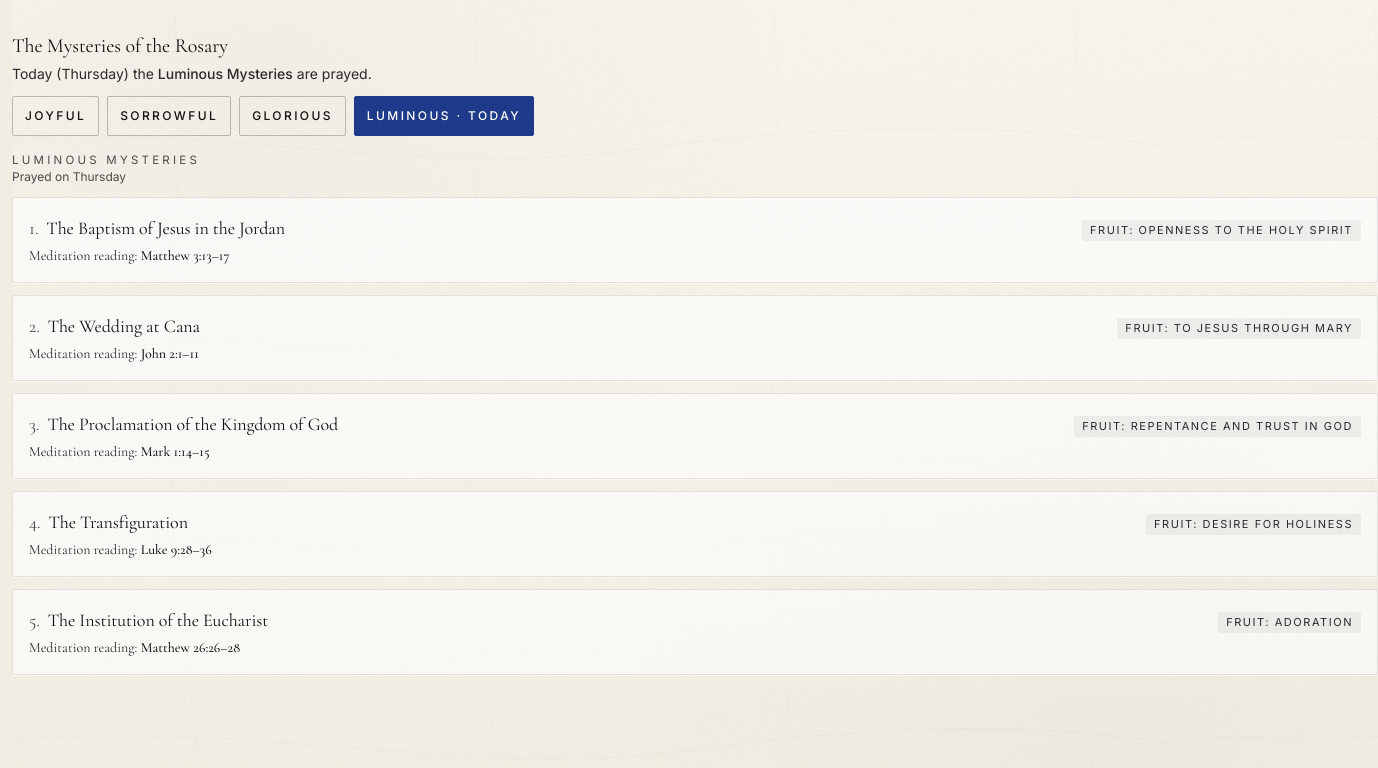
Test case: RosaryMysteries › switches the displayed mysteries when another set is chosen
The width and height of the screenshot is (1378, 768).
Expected: the heading "1.The Baptism of Jesus in the Jordan" is shown, [29, 214, 285, 242]
Click the button "Joyful" at (56, 116), box [12, 96, 99, 136]
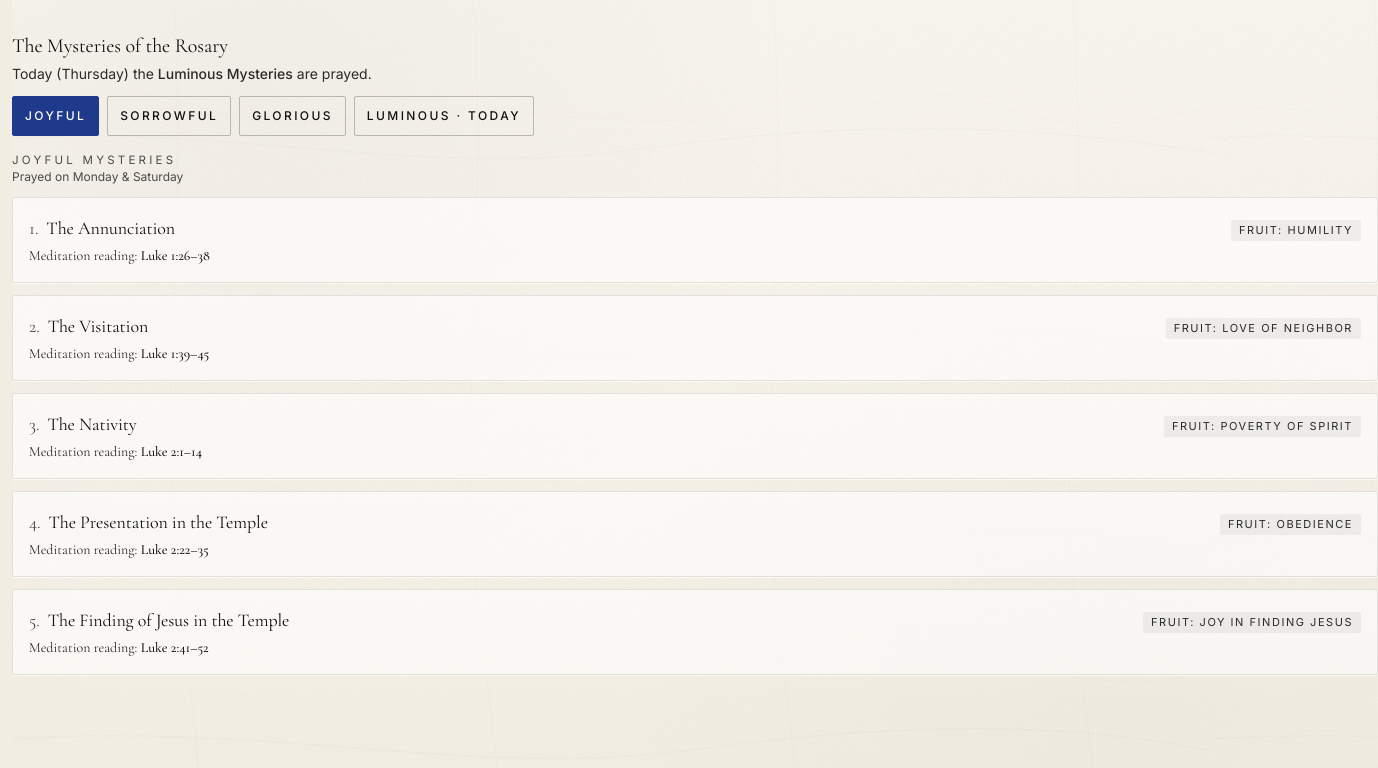
Expected: the heading "1.The Annunciation" is shown, [29, 214, 175, 242]
Expected: the heading "The Baptism of Jesus in the Jordan" is gone
